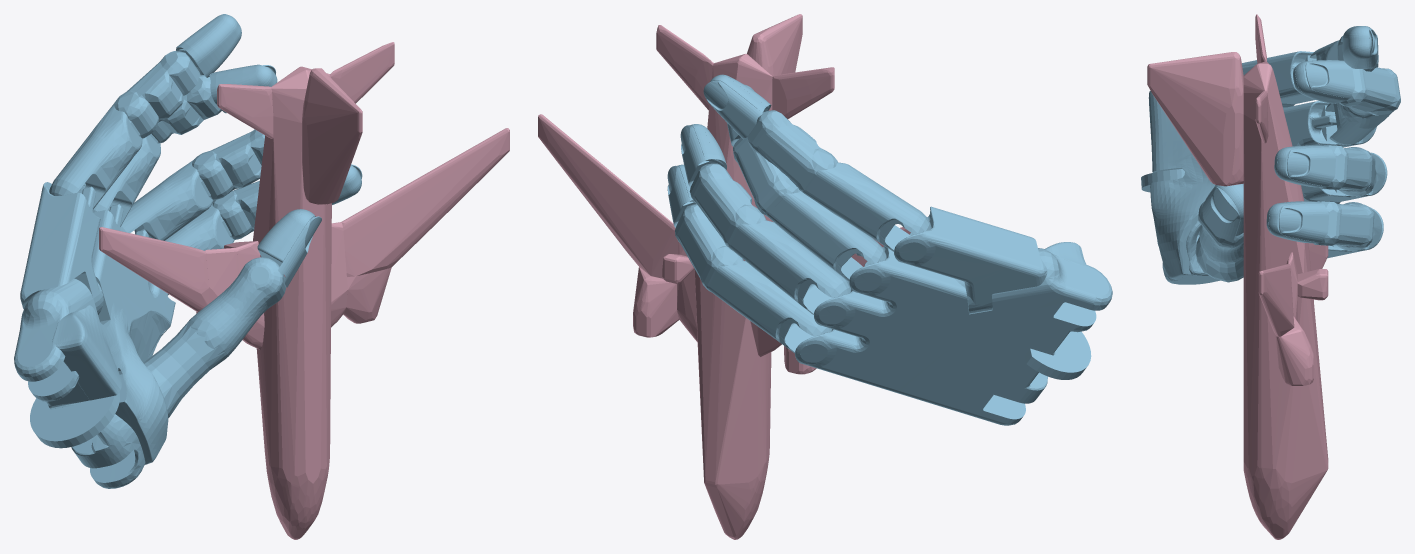
The picture shows the model from 3 angles, left to right: view 1: azimuth 30°, elevation 25°; view 2: azimuth 150°, elevation 25°; view 3: azimuth 270°, elevation 25°; orthographic projection.
Visible parts, largest first — view 1: hand_isaac_q, world; view 2: hand_isaac_q, world; view 3: world, hand_isaac_q.
Boxes of the visible parts, <box> form: hand_isaac_q: <box>14,14,362,488</box>; world: <box>99,42,509,539</box>; hand_isaac_q: <box>667,74,1112,425</box>; world: <box>538,14,910,539</box>; world: <box>1147,14,1328,539</box>; hand_isaac_q: <box>1141,26,1400,284</box>.
Size of the model in its own units: 0.2509 by 0.2261 by 0.1068.
